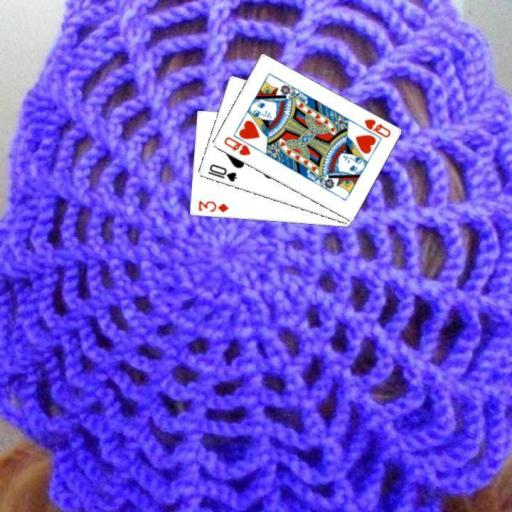card-corner: (353, 116, 392, 141), (204, 160, 238, 184), (220, 134, 252, 157), (195, 198, 230, 214)
